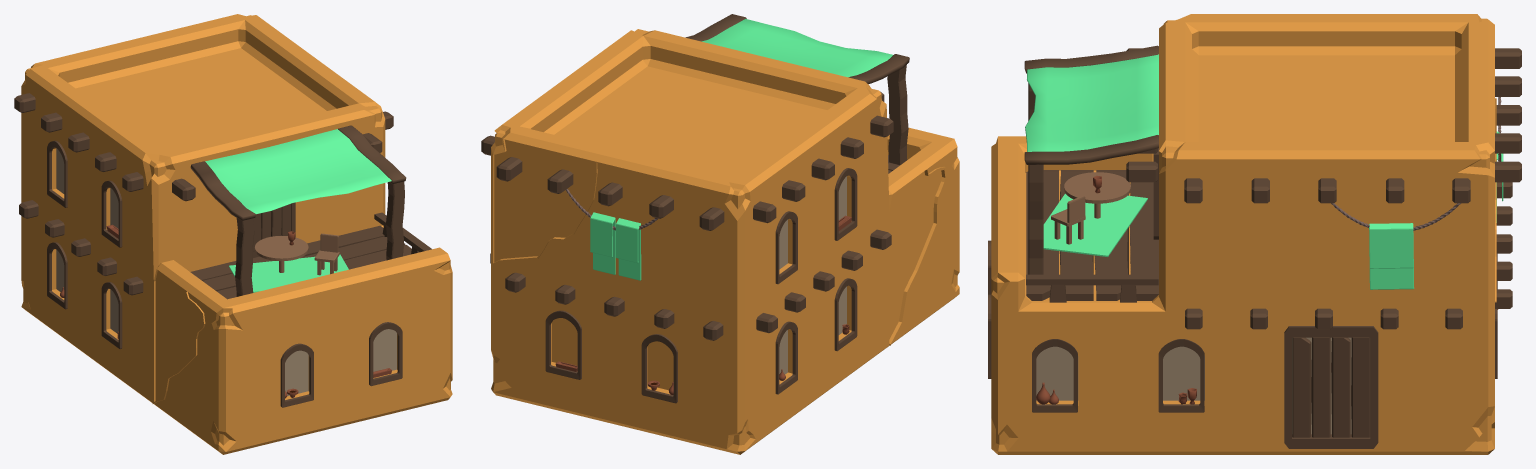
The model's file is HOUSE05.fbx.
The picture shows the model from 3 angles, left to right: view 1: azimuth 30°, elevation 25°; view 2: azimuth 150°, elevation 25°; view 3: azimuth 270°, elevation 25°; orthographic projection. The views are drawn at different scales.
Visible parts, largest first — view 1: ev4; view 2: ev4; view 3: ev4.
Part boxes in pixels (x1,y1,x2,y2): ev4: (14, 14, 452, 454); ev4: (481, 14, 959, 454); ev4: (988, 14, 1521, 454).
Size of the model in its own units: 1.14 by 0.9991 by 1.59.
